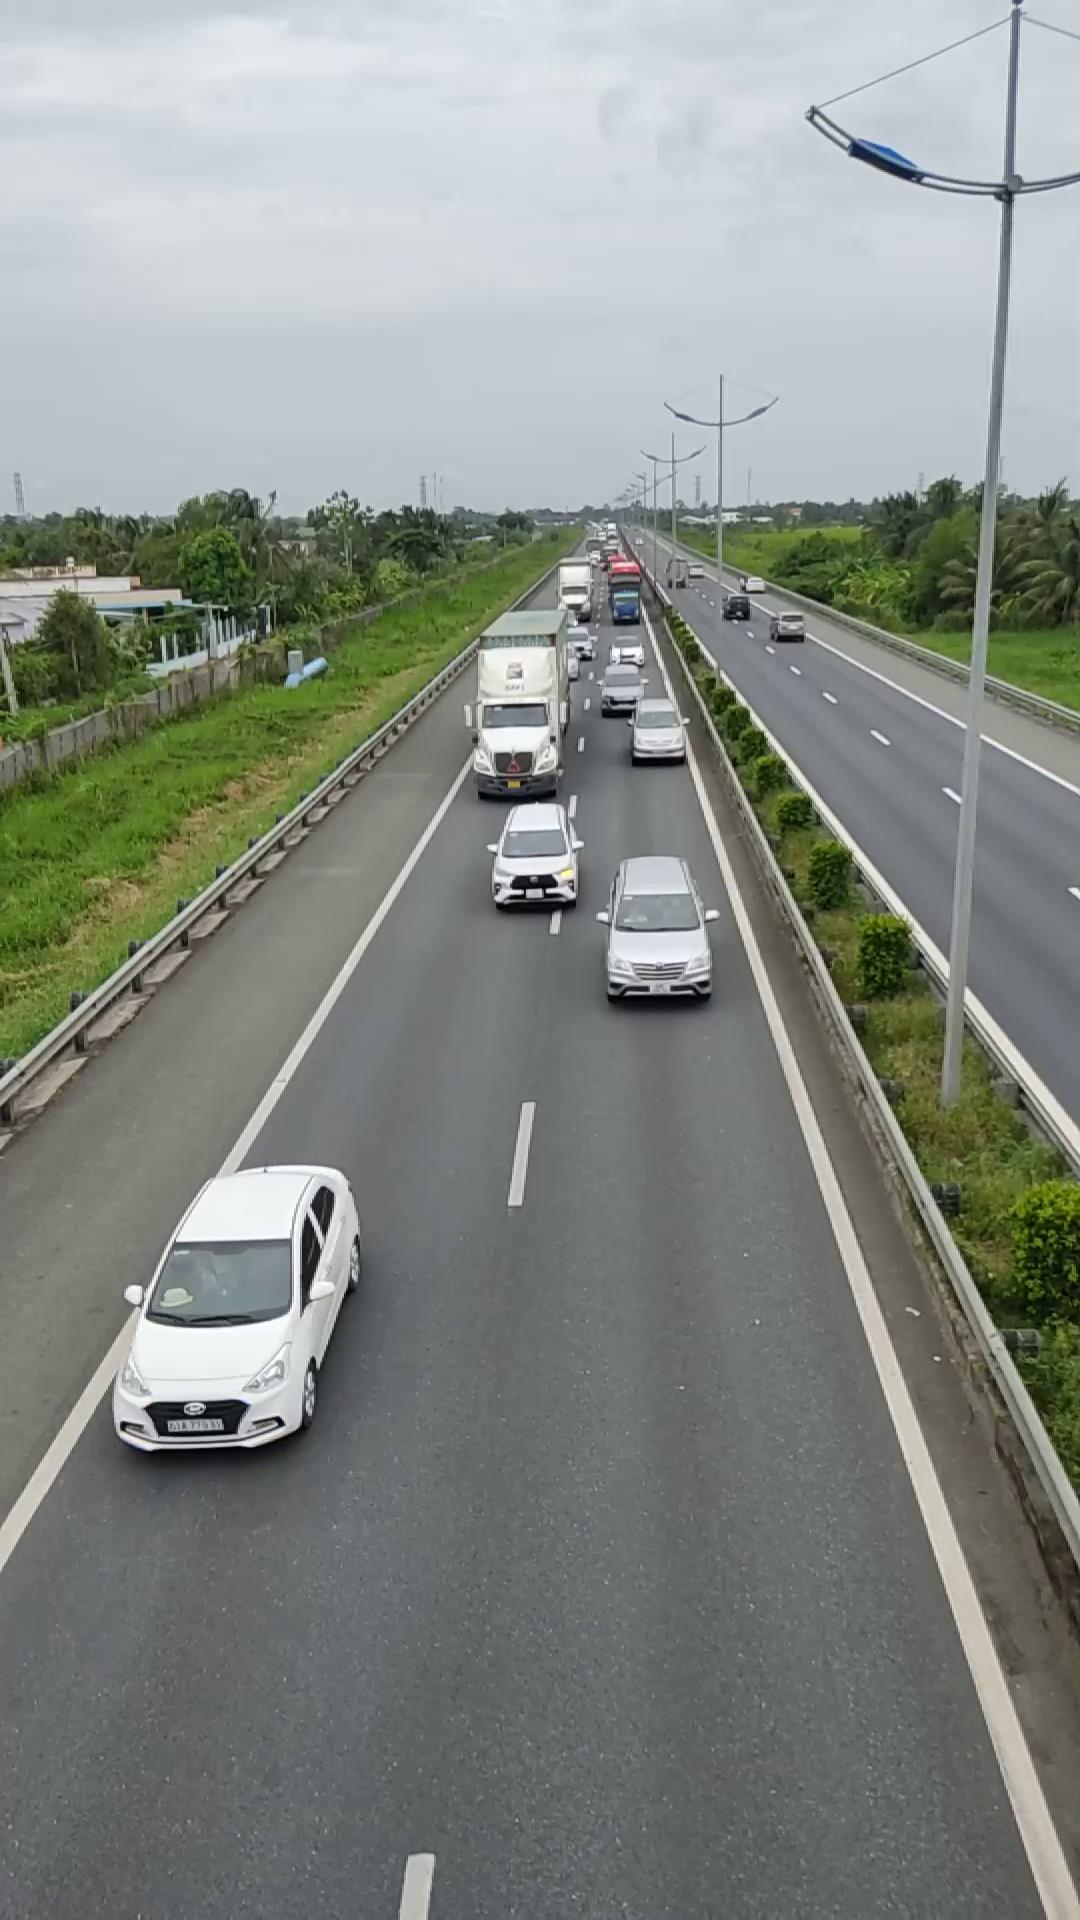car: (107, 1161, 363, 1454), (600, 854, 716, 1003), (488, 800, 584, 910), (626, 700, 689, 764)
container: (467, 605, 576, 799)
